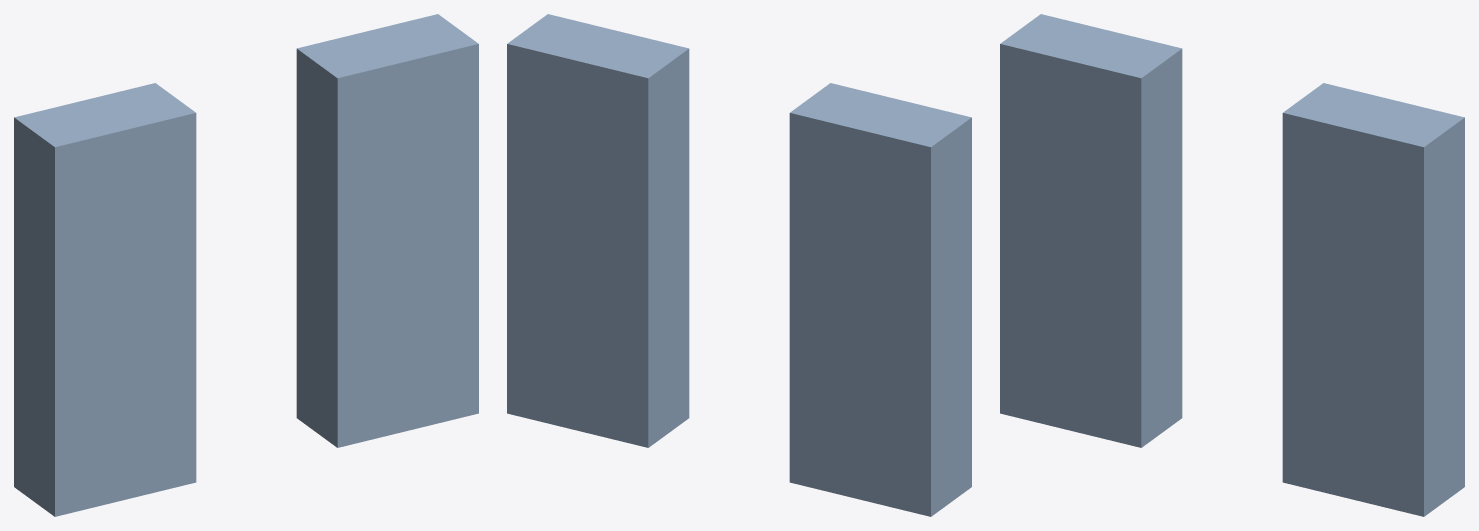
File: legRobotBase.glb
The picture shows the model from 3 angles, left to right: view 1: azimuth 30°, elevation 25°; view 2: azimuth 150°, elevation 25°; view 3: azimuth 330°, elevation 25°; orthographic projection.
Visible parts, largest first — view 1: generated(Clone); view 2: generated(Clone); view 3: generated(Clone).
Boxes of the visible parts, x1,y1,x2,y2 form: generated(Clone): [14, 14, 478, 516]; generated(Clone): [507, 14, 971, 516]; generated(Clone): [1000, 14, 1464, 516].
Size of the model in its own units: 6 by 5 by 1.
